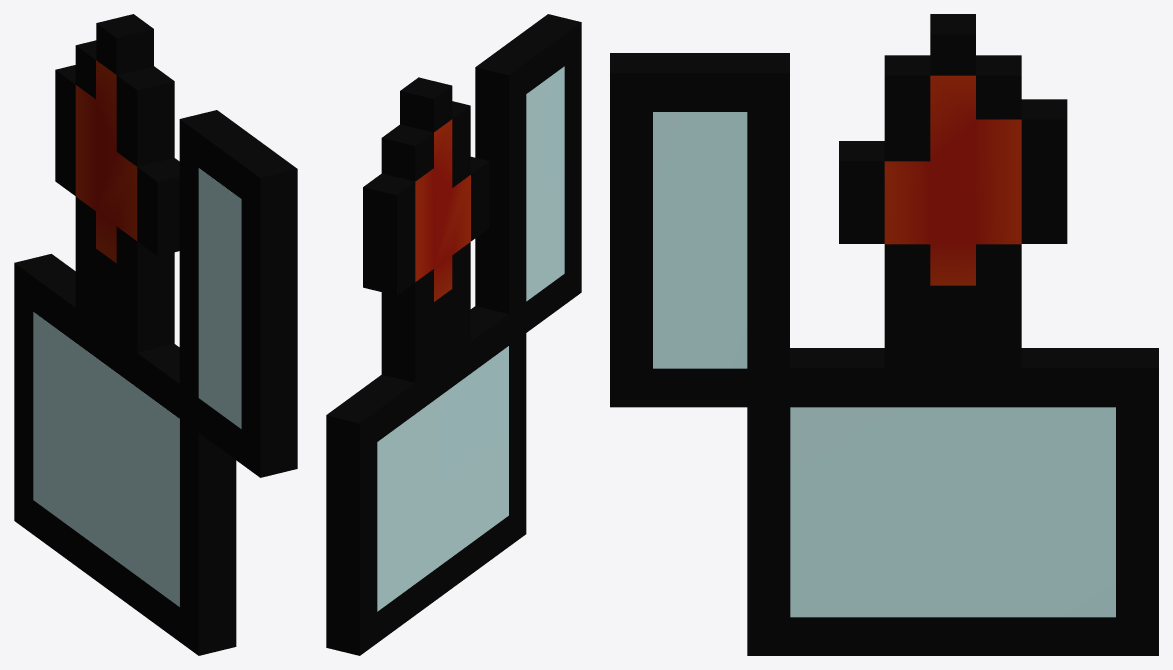
3 renders of one model, left to right at view 1: azimuth 30°, elevation 25°; view 2: azimuth 150°, elevation 25°; view 3: azimuth 270°, elevation 25°, orthographic. The views are drawn at different scales.
Visible parts, largest first — view 1: broad_frame, upright_frame, broad_gray, crest_black, upright_gray, crest_red; view 2: broad_frame, broad_gray, crest_black, upright_frame, upright_gray, crest_red; view 3: broad_gray, broad_frame, upright_frame, crest_black, upright_gray, crest_red.
Part boxes in pixels (x1=…): broad_frame: x1=14, y1=254, x2=236, y2=655; upright_frame: x1=179, y1=110, x2=297, y2=477; broad_gray: x1=33, y1=312, x2=179, y2=606; crest_black: x1=55, y1=14, x2=179, y2=352; upright_gray: x1=198, y1=168, x2=241, y2=428; crest_red: x1=75, y1=60, x2=137, y2=263; broad_frame: x1=326, y1=302, x2=526, y2=655; broad_gray: x1=377, y1=346, x2=508, y2=611; crest_black: x1=363, y1=77, x2=489, y2=382; upright_frame: x1=475, y1=14, x2=581, y2=332; upright_gray: x1=526, y1=66, x2=564, y2=301; crest_red: x1=415, y1=119, x2=470, y2=301; broad_gray: x1=790, y1=407, x2=1115, y2=617; broad_frame: x1=747, y1=348, x2=1158, y2=655; upright_frame: x1=610, y1=53, x2=789, y2=407; crest_black: x1=839, y1=14, x2=1067, y2=368; upright_gray: x1=653, y1=112, x2=747, y2=368; crest_red: x1=884, y1=75, x2=1021, y2=285.
Size of the model in its own units: 0.00564 by 0.08 by 0.064.
